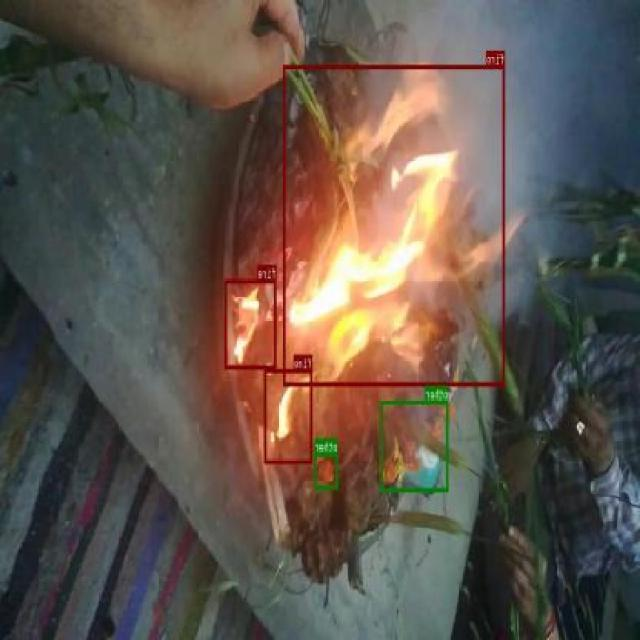Fire: (284, 63, 506, 386), (225, 277, 278, 368), (264, 368, 312, 462)
